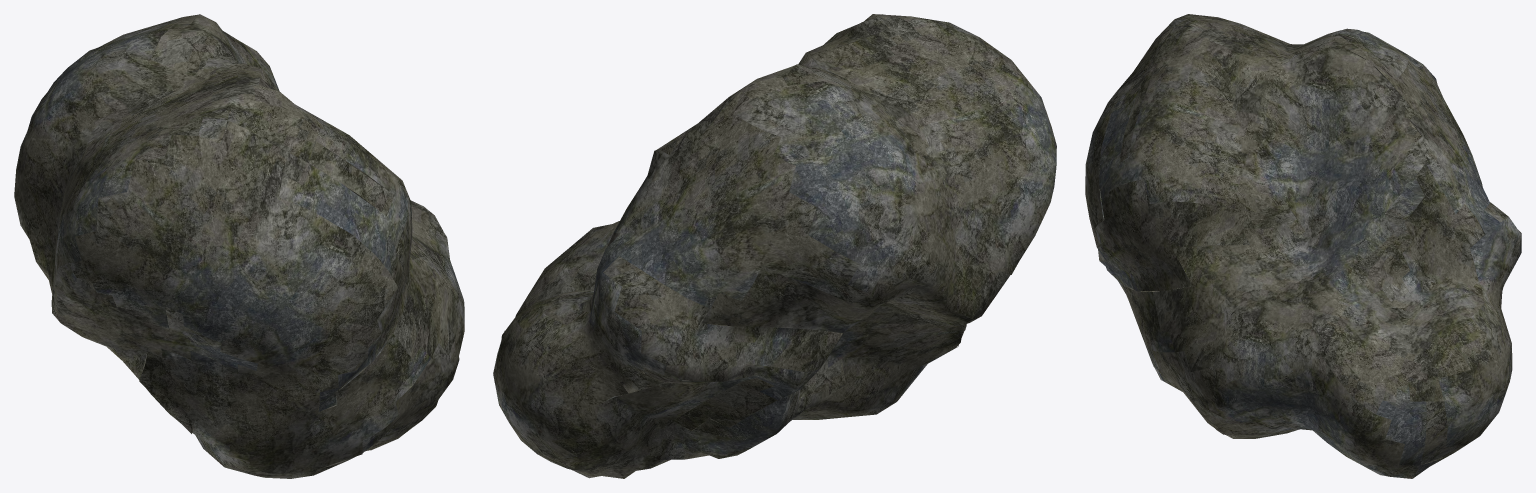
File: boulder_a.glb
The picture shows the model from 3 angles, left to right: view 1: azimuth 30°, elevation 25°; view 2: azimuth 150°, elevation 25°; view 3: azimuth 270°, elevation 25°; orthographic projection. The views are drawn at different scales.
Parts seen in each view (by area): view 1: boulder_a; view 2: boulder_a; view 3: boulder_a.
Boxes of the visible parts, x1=… form: boulder_a: x1=14, y1=14, x2=464, y2=478; boulder_a: x1=493, y1=14, x2=1056, y2=478; boulder_a: x1=1085, y1=14, x2=1521, y2=478.
Size of the model in its own units: 3.41 by 3 by 3.31.
Materials: 1 (1 with a texture image).
